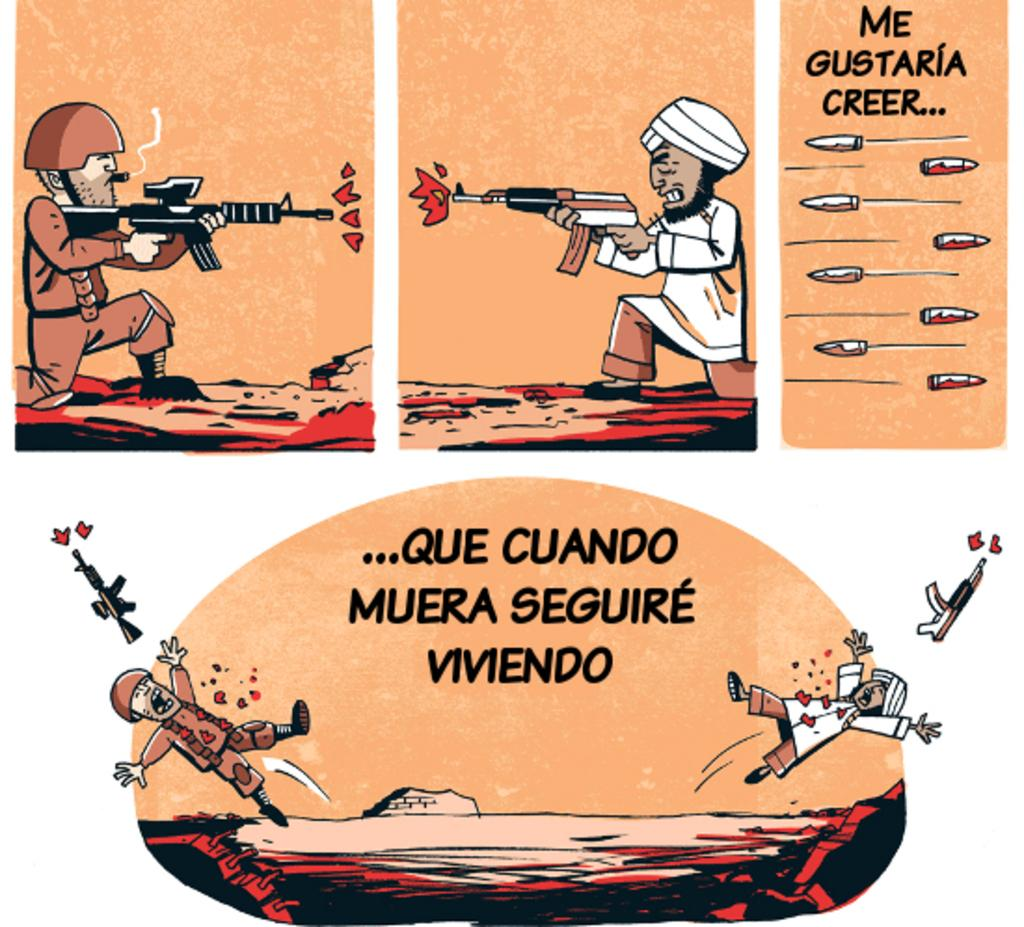Rifle: (54, 169, 339, 279), (445, 155, 657, 248)
